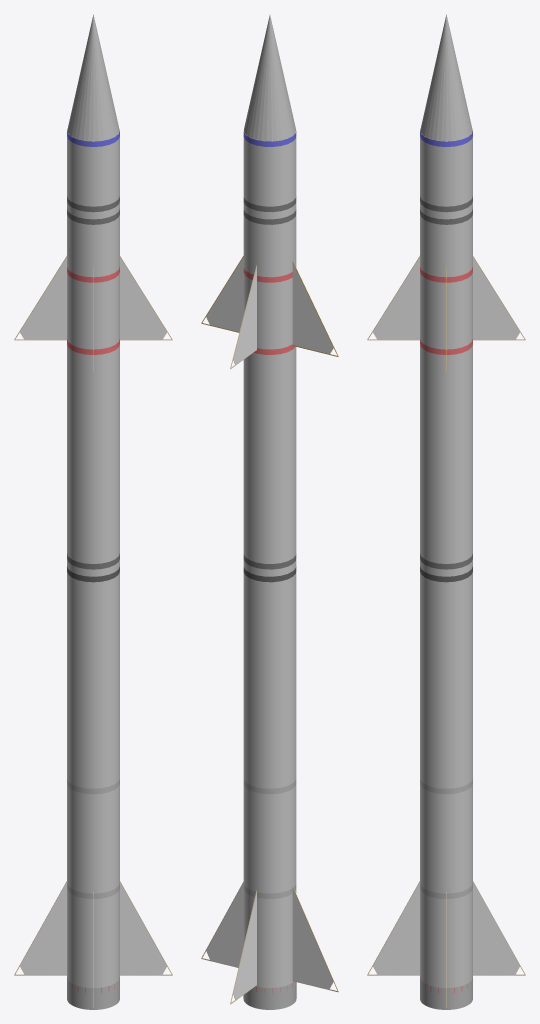
File: aim-120_amraam.glb
3 views of the same model, side by side, from view 1: azimuth 90°, elevation 25°; view 2: azimuth 150°, elevation 25°; view 3: azimuth 270°, elevation 25° (orthographic).
Visible parts, largest first — view 1: Main_Body, Cube__8_, default_grey_0, Cube__7_, Cube__1_, default_1_grey_0; view 2: Main_Body, Cube__8__1, default_grey_0, Cube__7__1, Cube__8_, default_1_grey_0, Cube__7_; view 3: Main_Body, Cube__8_, default_grey_0, Cube__7_, Cube__1_, default_1_grey_0.
Part boxes in pixels (x1,y1,x2,y2): Main_Body: [67, 129, 119, 987]; Cube__8_: [20, 882, 166, 975]; default_grey_0: [67, 14, 119, 141]; Cube__7_: [20, 257, 166, 339]; Cube__1_: [33, 311, 153, 339]; default_1_grey_0: [67, 978, 119, 1009]; Main_Body: [243, 129, 296, 987]; Cube__8__1: [206, 883, 333, 989]; default_grey_0: [244, 15, 295, 141]; Cube__7__1: [206, 257, 333, 353]; Cube__8_: [233, 892, 256, 999]; default_1_grey_0: [243, 981, 296, 1009]; Cube__7_: [233, 267, 256, 364]; Main_Body: [420, 129, 472, 987]; Cube__8_: [373, 882, 519, 975]; default_grey_0: [420, 14, 472, 141]; Cube__7_: [373, 257, 519, 339]; Cube__1_: [386, 311, 506, 339]; default_1_grey_0: [420, 978, 472, 1009].
Bounding box in the file's own units: 2.98 × 20.47 × 2.98.
